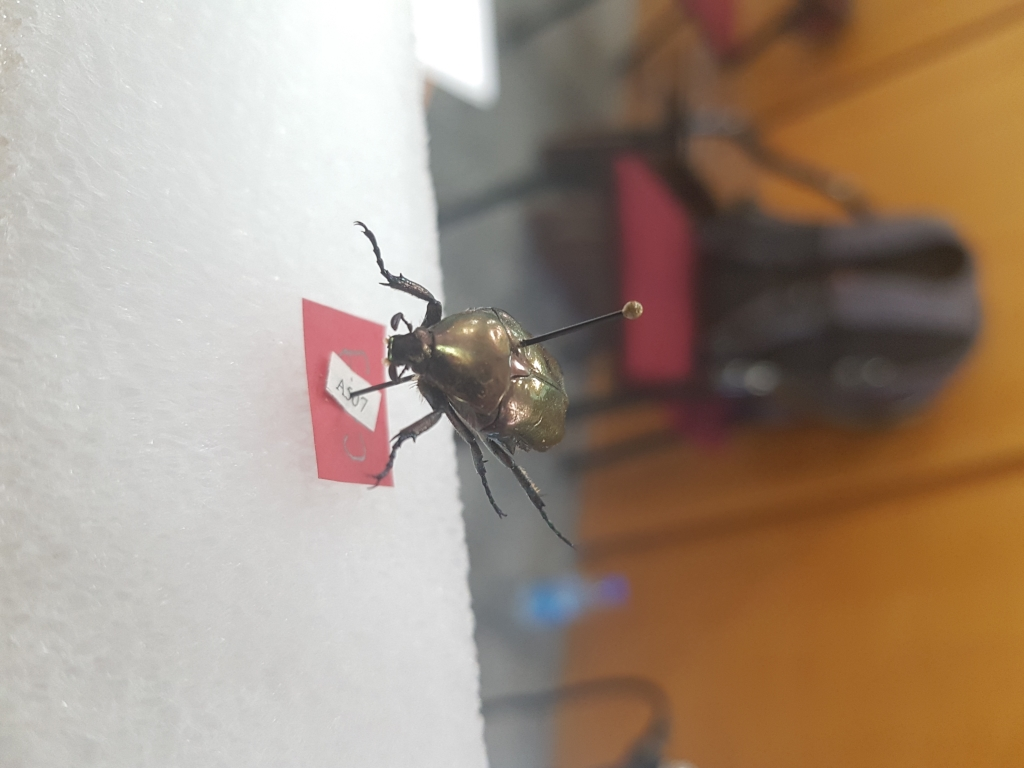Protaetia_besucheti: (341, 211, 608, 563)
